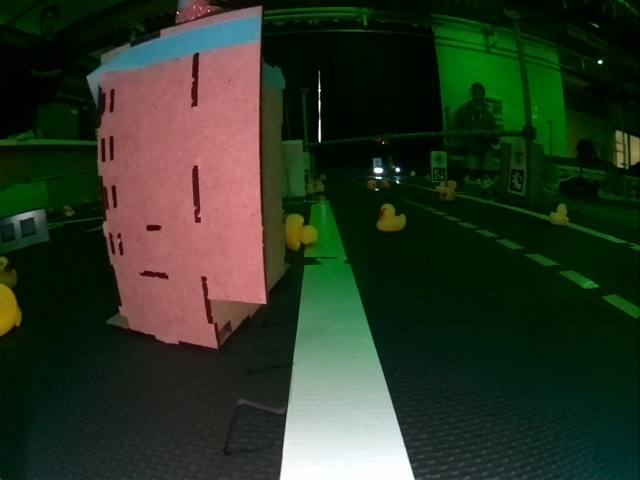Duckie: (285, 215, 318, 250), (376, 203, 405, 229), (1, 256, 18, 286), (551, 204, 568, 225), (439, 188, 454, 201), (367, 180, 375, 189)
QR code: (509, 169, 525, 193), (432, 168, 446, 180)
